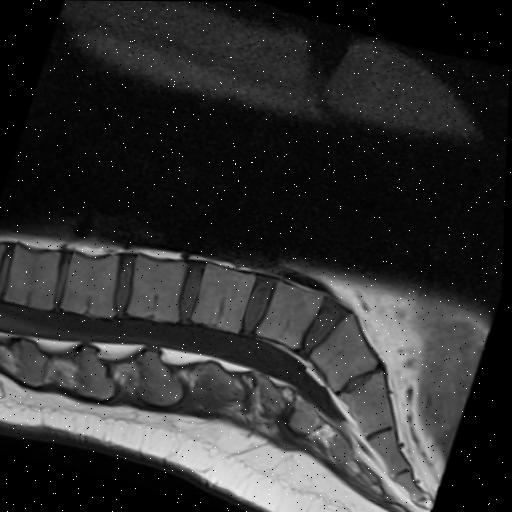L1: (8, 246, 63, 310)
L2: (64, 253, 120, 316)
L3: (131, 257, 188, 321)
L4: (194, 261, 258, 330)
L5: (259, 280, 325, 347)
S1: (313, 312, 380, 390)
